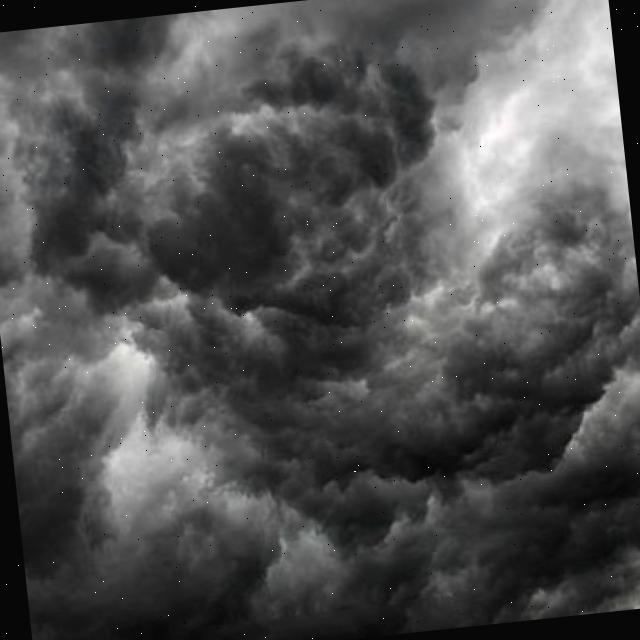Ns: (1, 1, 640, 640)
